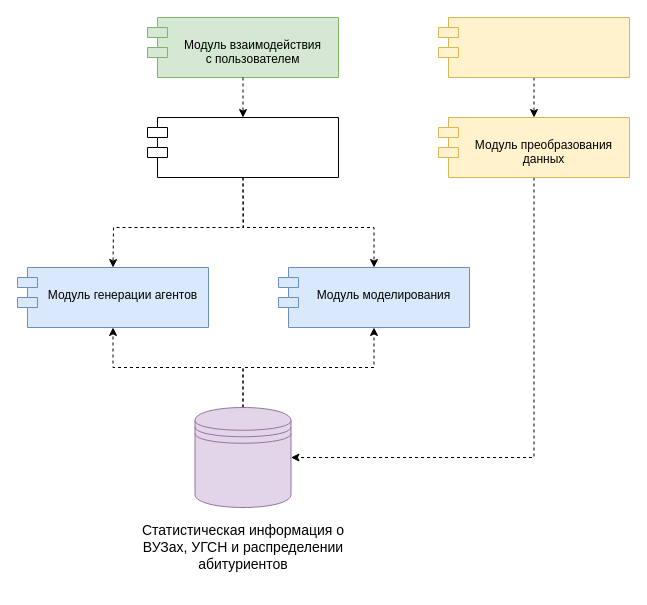
Some shapes in this 647 by 605 pixel diagram are drawn without their labels. Here are the shapes that lost their labels. From the top down, the centre of each, then its label:
At (x=534, y=47): "Модуль сбора статистики".
At (x=242, y=147): "Модуль управления".
